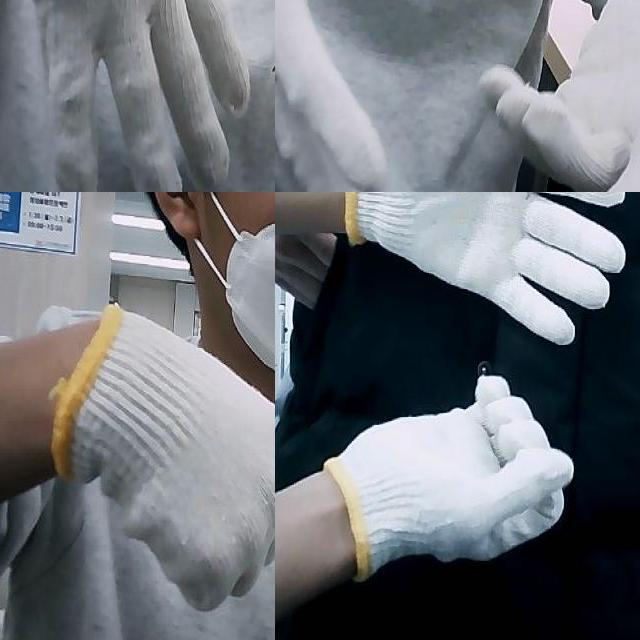GLOVE: (50, 303, 275, 607), (328, 372, 574, 582), (0, 0, 251, 192), (340, 192, 628, 344), (483, 0, 640, 192), (275, 0, 387, 192)
